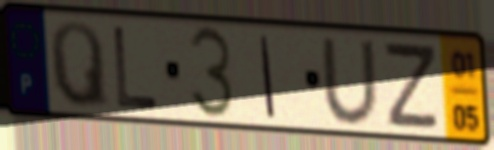3: (185, 22, 236, 123)
I: (258, 32, 278, 121)
L: (110, 23, 162, 113)
Q: (46, 18, 112, 113)
U: (317, 36, 382, 128)
Z: (383, 41, 441, 133)
